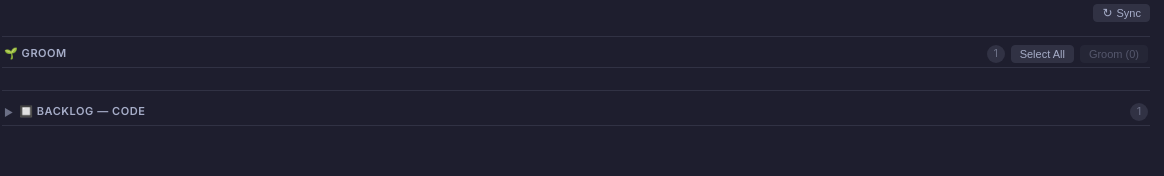
Scenario: TaskList › Groom(N) button › renders on the Backlog section and reflects the selected count
Click the button with test id "group-header-backlog" at [82, 111], box [2,99,1150,126]
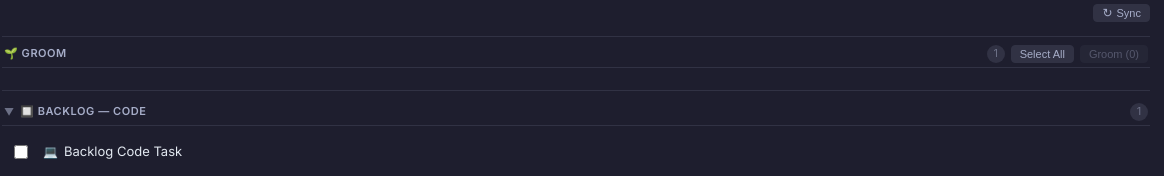
Expected: the button with test id "groom-btn" reads "Groom (0)", [1080,45,1148,63]
Expected: the button with test id "groom-btn" is disabled, [1080,45,1148,63]
Click the checkbox at [21, 152], box [14,145,28,159]
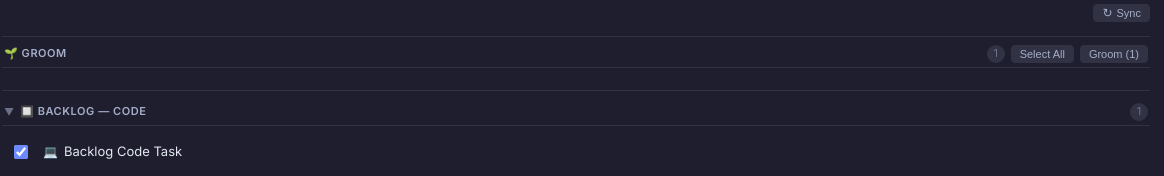
Expected: the button with test id "groom-btn" reads "Groom (1)", [1080,45,1148,63]
Expected: the button with test id "groom-btn" is enabled, [1080,45,1148,63]
